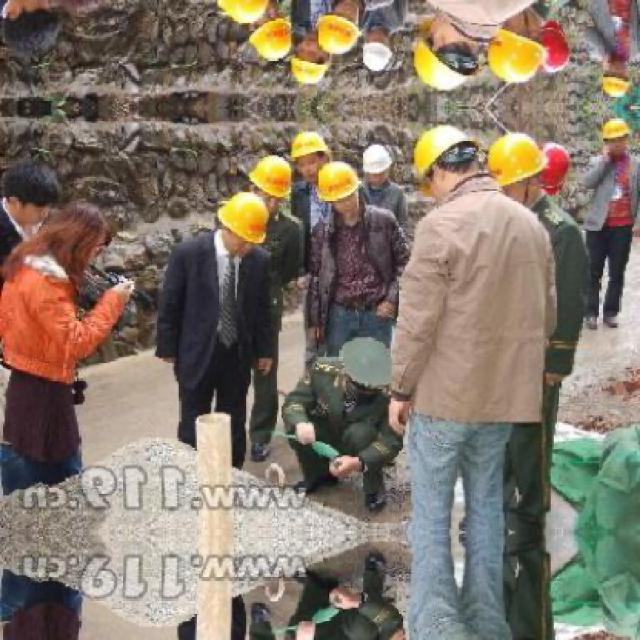con casco: (410, 124, 495, 242), (490, 129, 572, 219), (220, 168, 268, 278), (318, 158, 379, 219), (243, 149, 287, 211)
sin casco: (25, 189, 137, 300)
